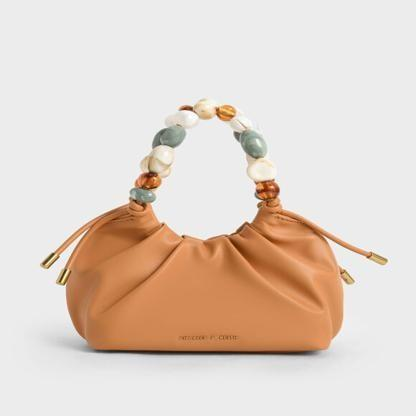not trash: (40, 98, 390, 359)
